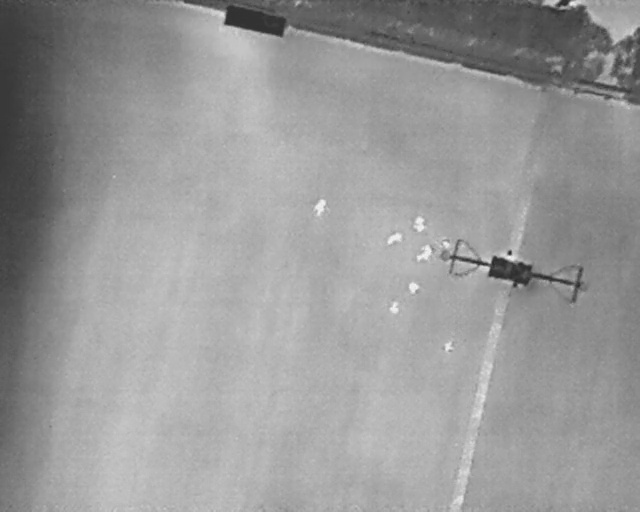Person: (411, 242, 435, 265), (383, 229, 406, 250), (310, 197, 329, 219), (413, 216, 426, 232), (389, 300, 400, 315), (409, 281, 420, 295), (442, 341, 454, 351), (441, 238, 451, 248)
